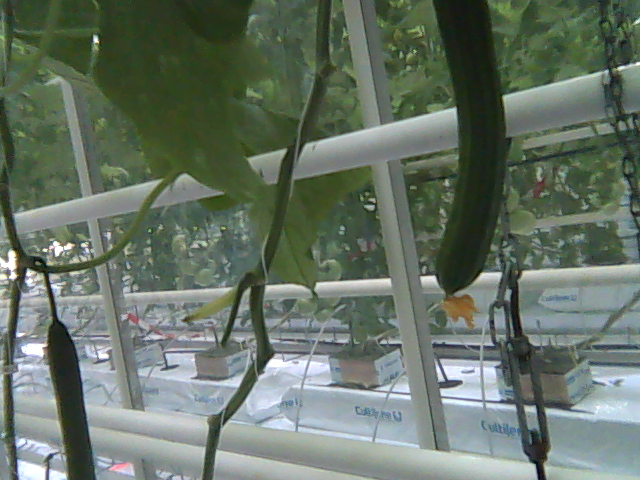concombre: (424, 1, 511, 328), (42, 315, 103, 480)
